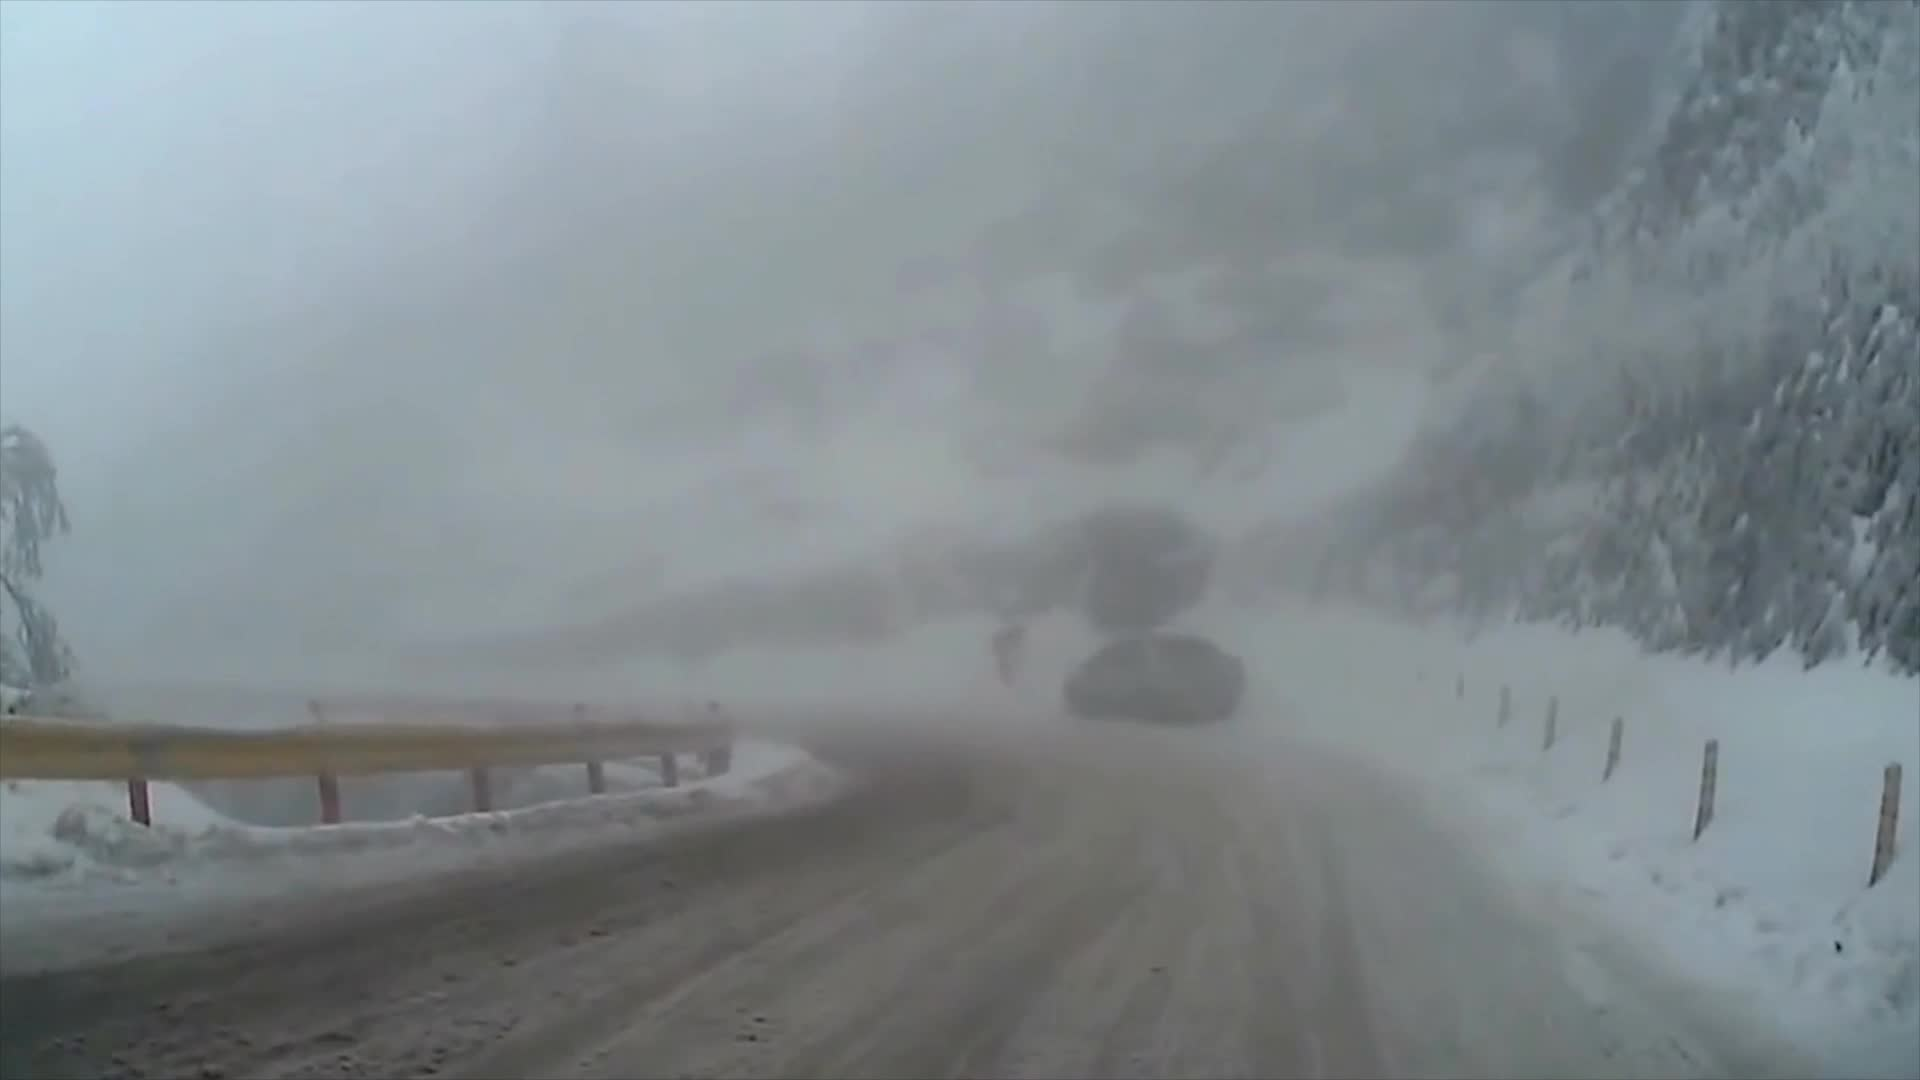pedestrian: (990, 624, 1027, 687)
vehicle: (1062, 631, 1243, 722)
